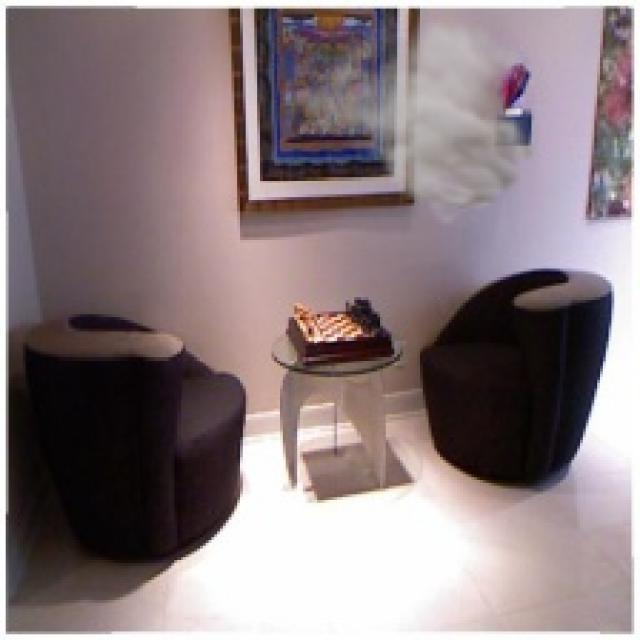smoke: (286, 8, 557, 228)
